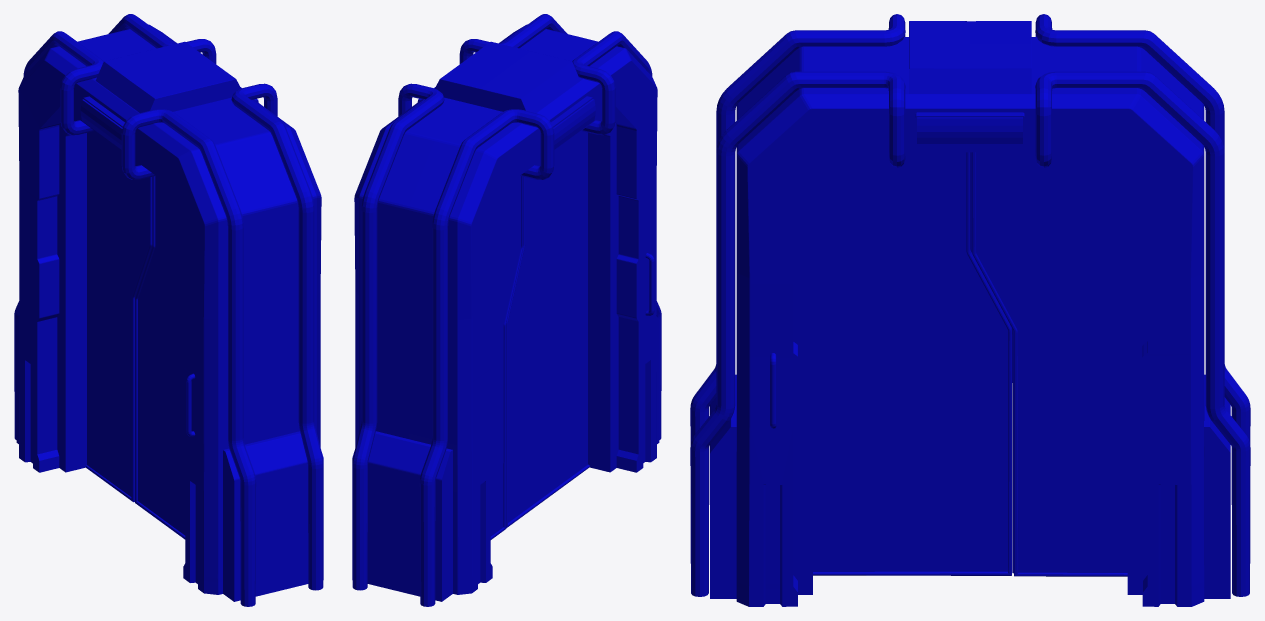
File: Slide_Door.FBX
The picture shows the model from 3 angles, left to right: view 1: azimuth 30°, elevation 25°; view 2: azimuth 150°, elevation 25°; view 3: azimuth 270°, elevation 25°; orthographic projection. The views are drawn at different scales.
Visible parts, largest first — view 1: E_Door, E_DoorFrame; view 2: E_Door, E_DoorFrame; view 3: E_Door, E_DoorFrame.
Boxes of the visible parts, bbox=[...] form: E_Door: bbox=[14, 14, 323, 606]; E_DoorFrame: bbox=[85, 131, 185, 539]; E_Door: bbox=[352, 14, 661, 606]; E_DoorFrame: bbox=[490, 131, 589, 539]; E_Door: bbox=[690, 14, 1250, 606]; E_DoorFrame: bbox=[813, 152, 1127, 576].
Size of the model in its own units: 31.38 by 86.17 by 82.61.
